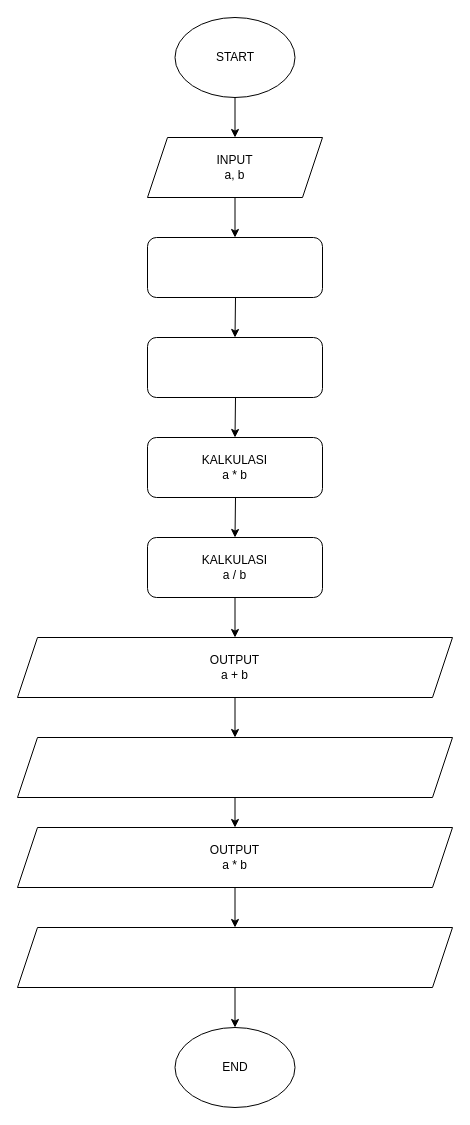
This 470x1125 diagram has some shape labels left out. The shapes that lost their labels are listed below. From the top down, each one's box as (x1, y1, x2, y2) in pixels, then its label:
(146, 236, 322, 298): KALKULASI a + b
(146, 336, 322, 398): KALKULASI a - b
(16, 736, 452, 798): OUTPUT a - b
(16, 926, 452, 988): OUTPUT a / b
